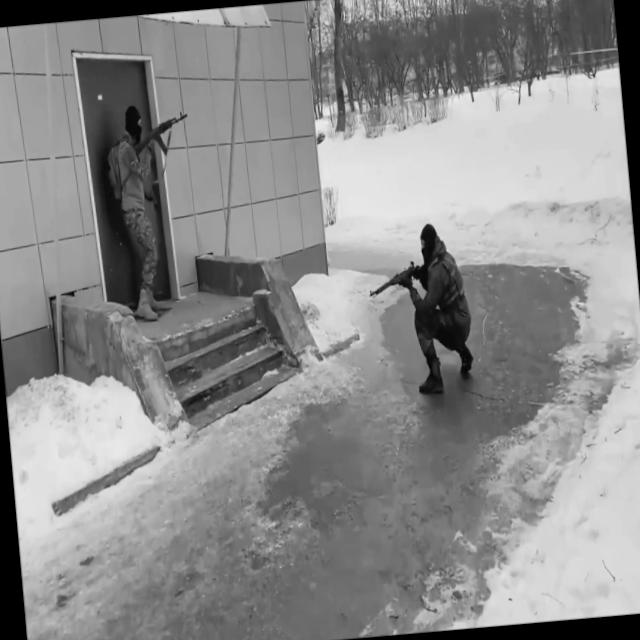gun: (130, 108, 192, 160), (366, 255, 426, 302)
person with a gun: (102, 95, 208, 325), (364, 217, 476, 400)
